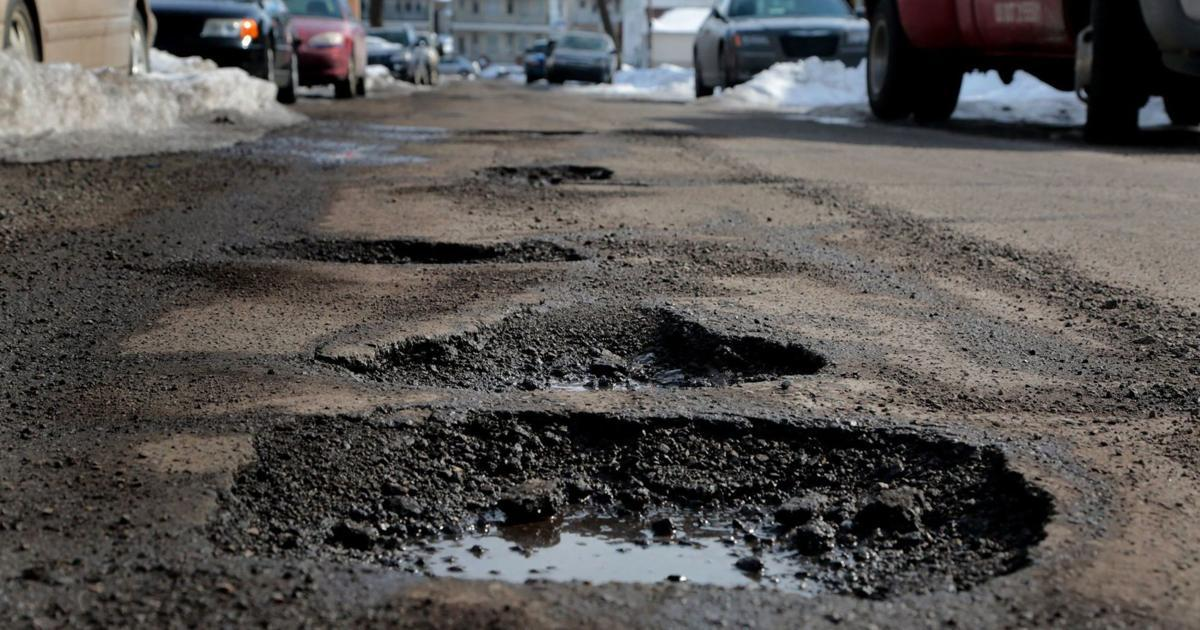Pothole: (133, 397, 1094, 629), (322, 298, 846, 402), (182, 202, 614, 304), (400, 101, 721, 167)
